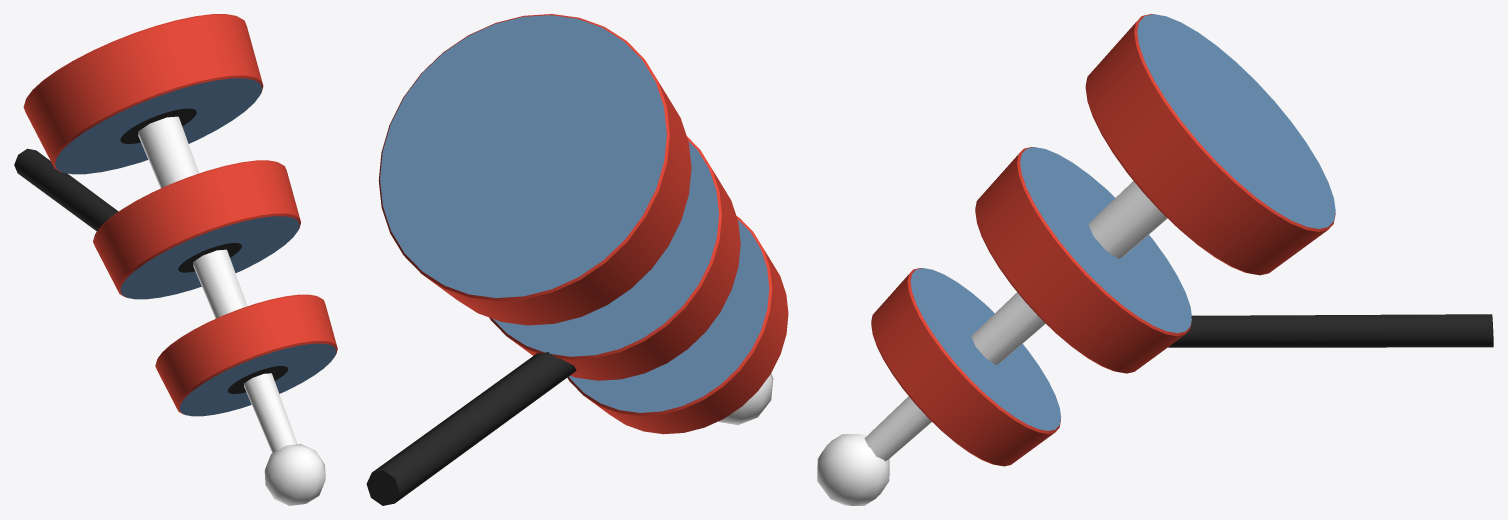
The model's file is coil.fbx.
3 renders of one model, left to right at view 1: azimuth 30°, elevation 25°; view 2: azimuth 150°, elevation 25°; view 3: azimuth 270°, elevation 25°, orthographic. The views are drawn at different scales.
Visible parts, largest first — view 1: coil; view 2: coil; view 3: coil.
Part boxes in pixels (box(x1,y1,x2,y2)): coil: box(14, 14, 337, 505); coil: box(366, 14, 788, 505); coil: box(817, 14, 1493, 505).
Bounding box in the file's own units: 0.5305 × 0.9691 × 1.26.
